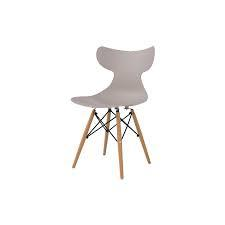chair: (54, 20, 167, 175)
